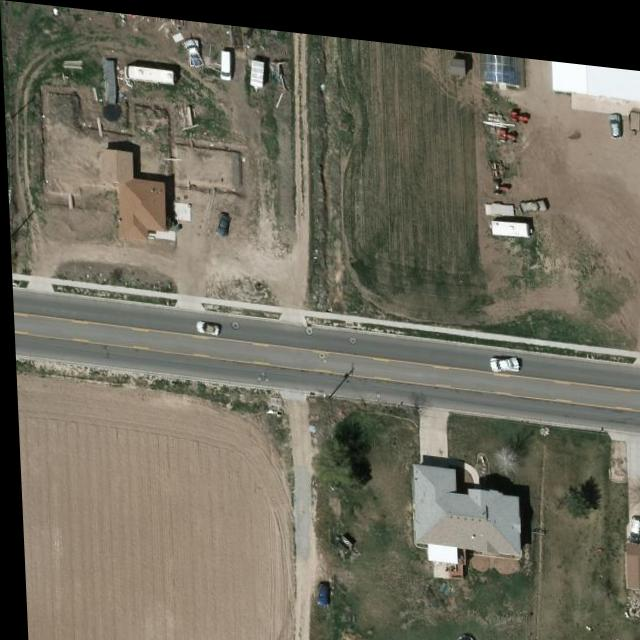vehicle: (517, 184, 548, 206), (486, 344, 518, 363), (185, 32, 203, 64), (624, 503, 640, 531), (219, 45, 233, 76), (310, 577, 326, 602), (609, 98, 622, 128), (214, 208, 229, 233), (193, 317, 218, 331)
